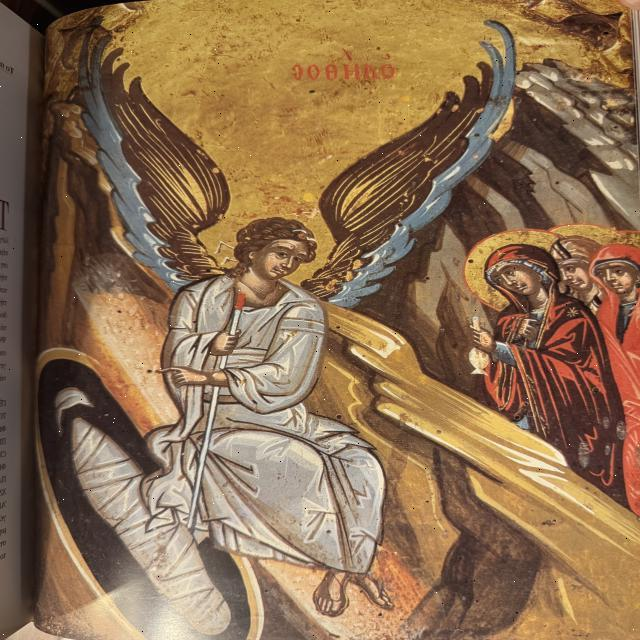angel: (66, 10, 532, 626)
aura: (461, 229, 577, 309)
saint: (456, 227, 628, 485), (589, 236, 640, 382), (544, 228, 602, 312)
scepter: (186, 292, 250, 529)
wing: (301, 15, 533, 300), (75, 14, 231, 285)
